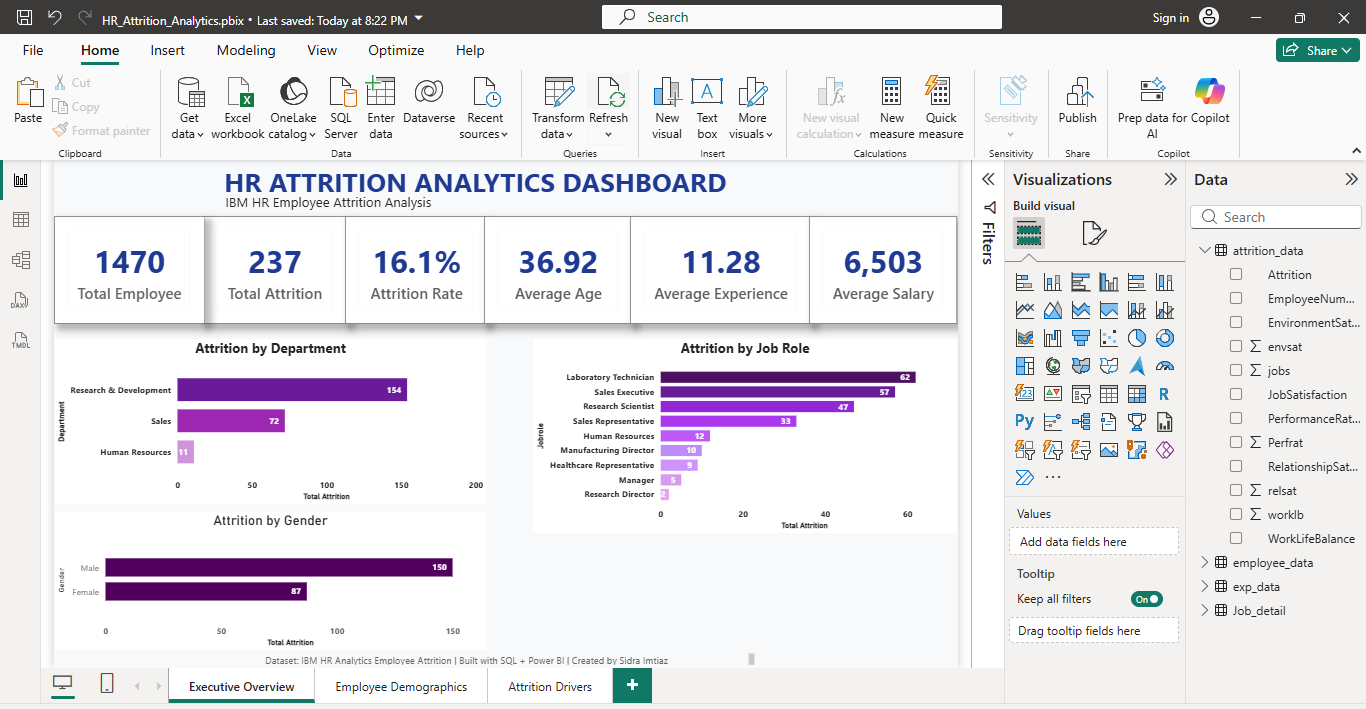

The page's visual inventory and layout, read from the dashboard file:
{"tool":"powerbi","page":{"name":"Executive Overview","canvas":[1280,720],"ordinal":0},"visuals":[{"type":"cardVisual","fields":{"Data":["Job_detail.Total Attrition"]},"box":[209.5,79.4,205.5,153.1],"z":0},{"type":"cardVisual","fields":{"Data":["Job_detail.Attrition Rate"]},"box":[411.9,79.4,201.3,153.1],"z":1000},{"type":"cardVisual","fields":{"Data":["Job_detail.Average Age"]},"box":[610,79.4,209.8,153.1],"z":2000},{"type":"cardVisual","fields":{"Data":["Job_detail.Average Experience"]},"box":[816.7,79.4,256.5,153.1],"z":3000},{"type":"cardVisual","fields":{"Data":["Job_detail.Total Employee"]},"box":[0,79.4,212.6,153.1],"z":4000},{"type":"cardVisual","fields":{"Data":["Job_detail.Average Salary"]},"box":[1070.1,79.4,209.8,153.1],"z":5000},{"type":"textbox","box":[178.6,0,837.6,65.2],"z":6000},{"type":"clusteredBarChart","title":" Attrition by Department","fields":{"Y":["Job_detail.Total Attrition"],"Category":["employee_data.Department"]},"box":[0,253.7,613.7,233.9],"z":7000},{"type":"clusteredBarChart","title":" Attrition by Job Role","fields":{"Y":["Job_detail.Total Attrition"],"Category":["Job_detail.Jobrole"]},"box":[678.9,253.7,600.9,275],"z":8000},{"type":"textbox","box":[238.1,41.1,309,38.3],"z":9000},{"type":"textbox","box":[178.6,694.5,819.2,25.5],"z":10000},{"type":"clusteredBarChart","title":"Attrition by Gender","fields":{"Category":["employee_data.Gender"],"Y":["Job_detail.Total Attrition"]},"box":[0,498.9,613.7,195.6],"z":11000}]}

Visuals, with their boxes on the page's 1280x720 design canvas (x1, y1, x2, y2). These are canvas units, not pixel positions in the 1366x709 screenshot, which may show the page scaled, cropped or inside an application window:
cardVisual - Job_detail.Total Attrition: [left=210, top=79, right=415, bottom=232]
cardVisual - Job_detail.Attrition Rate: [left=412, top=79, right=613, bottom=232]
cardVisual - Job_detail.Average Age: [left=610, top=79, right=820, bottom=232]
cardVisual - Job_detail.Average Experience: [left=817, top=79, right=1073, bottom=232]
cardVisual - Job_detail.Total Employee: [left=0, top=79, right=213, bottom=232]
cardVisual - Job_detail.Average Salary: [left=1070, top=79, right=1280, bottom=232]
textbox: [left=179, top=0, right=1016, bottom=65]
" Attrition by Department" clusteredBarChart: [left=0, top=254, right=614, bottom=488]
" Attrition by Job Role" clusteredBarChart: [left=679, top=254, right=1280, bottom=529]
textbox: [left=238, top=41, right=547, bottom=79]
textbox: [left=179, top=694, right=998, bottom=720]
"Attrition by Gender" clusteredBarChart: [left=0, top=499, right=614, bottom=694]
